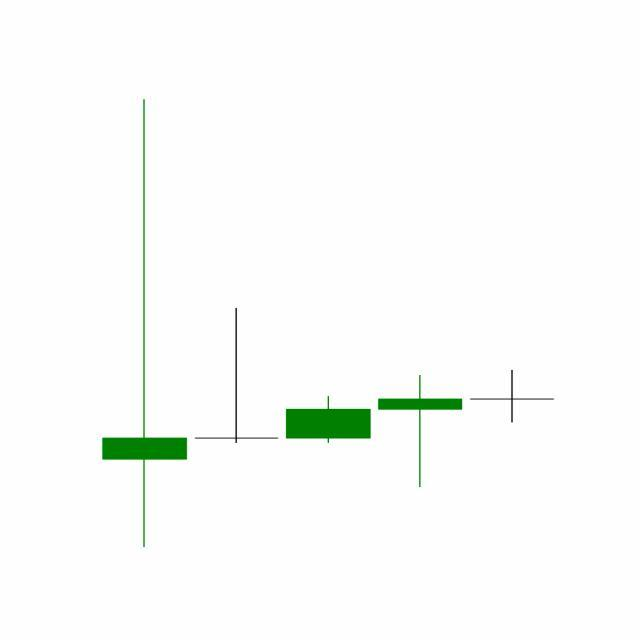Spinning Top: (374, 375, 468, 490)
